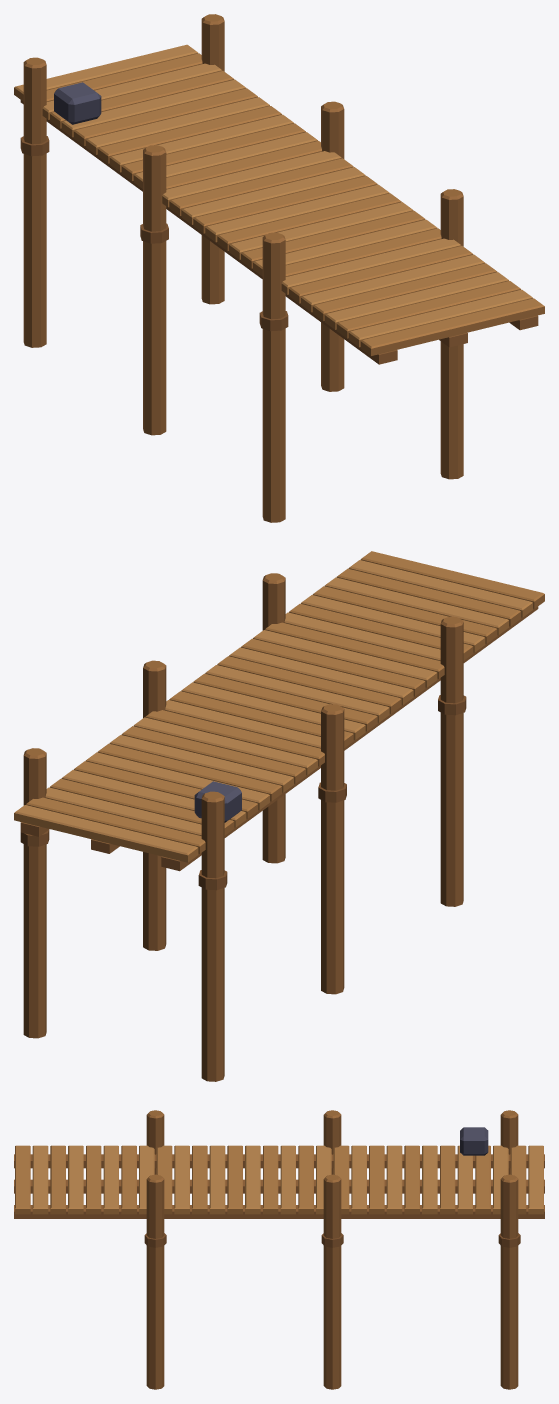
Rendered from Pier.glb.
The picture shows the model from 3 angles, top to bottom: view 1: azimuth 30°, elevation 25°; view 2: azimuth 150°, elevation 25°; view 3: azimuth 270°, elevation 25°; orthographic projection. The views are drawn at different scales.
Parts seen in each view (by area): view 1: Pier; view 2: Pier; view 3: Pier.
Part boxes in pixels (box(x1,y1,x2,y2)): Pier: box(14, 14, 544, 522); Pier: box(14, 551, 544, 1081); Pier: box(14, 1110, 544, 1389).
Bounding box in the file's own units: 9.84 × 13 × 30.
Materials: 1 (1 with a texture image).
